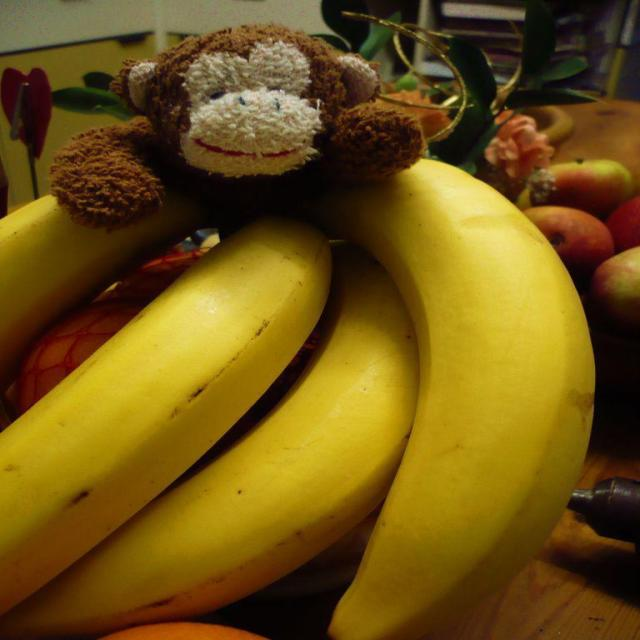banana: (254, 157, 598, 640), (0, 215, 334, 596)
